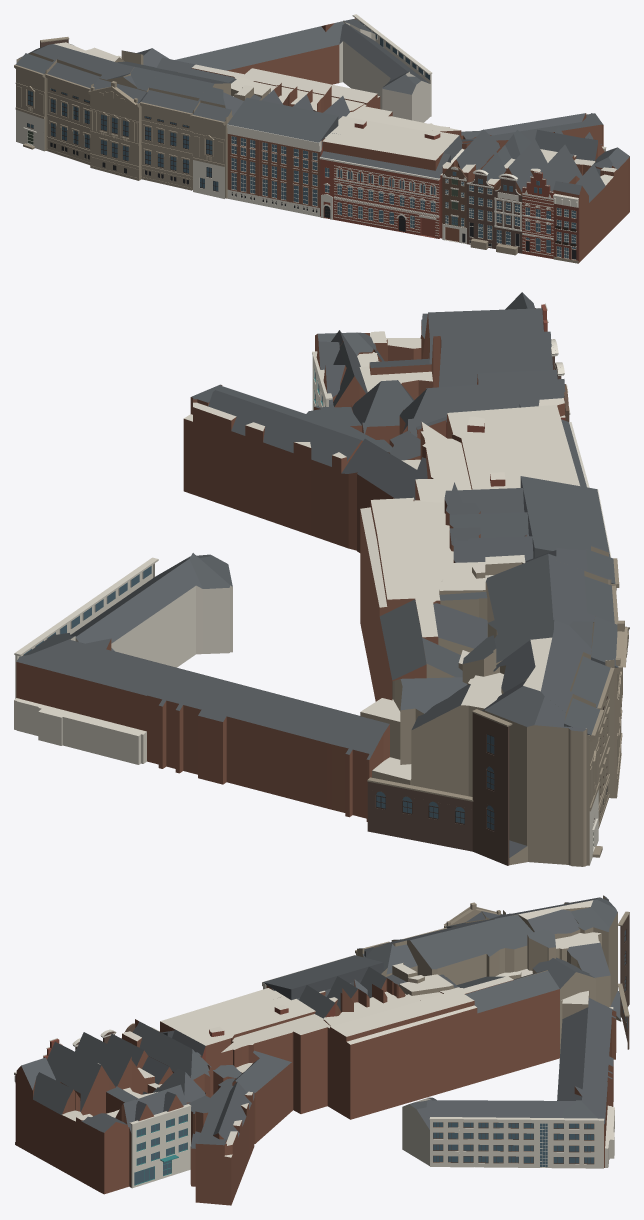
Rendered from oude-turfmarkt-139.glb.
3 renders of one model, top to bottom at view 1: azimuth 30°, elevation 25°; view 2: azimuth 150°, elevation 25°; view 3: azimuth 270°, elevation 25°, orthographic. The views are drawn at different scales.
Parts seen in each view (by area): view 1: oude-turfmarkt-139; view 2: oude-turfmarkt-139; view 3: oude-turfmarkt-139.
Part boxes in pixels (box(x1,y1,x2,y2)): oude-turfmarkt-139: box(14, 14, 629, 263); oude-turfmarkt-139: box(14, 292, 629, 866); oude-turfmarkt-139: box(14, 895, 629, 1205).
Size of the model in its own units: 101 by 22.19 by 118.
